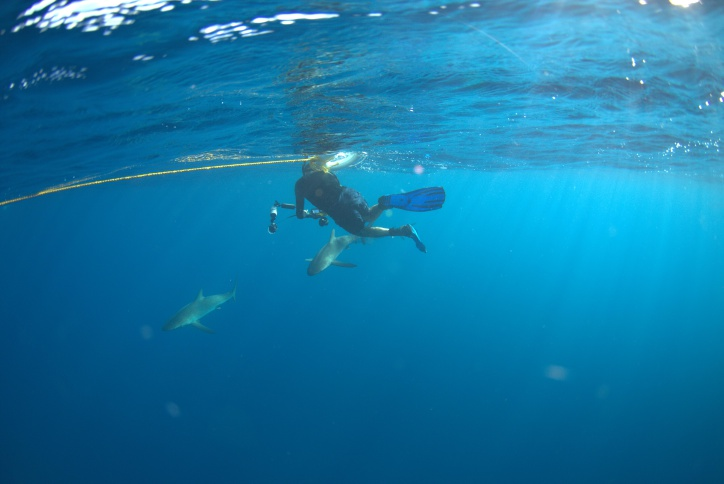Sedoso: (151, 267, 250, 340)
